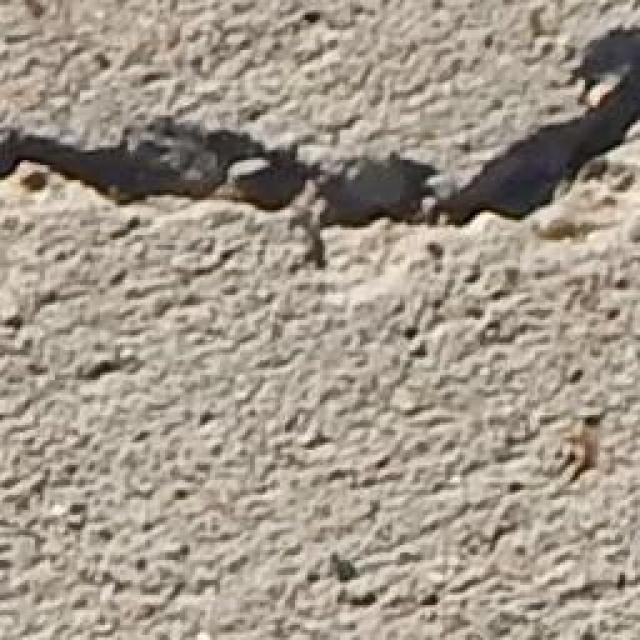concrete-crack: (0, 20, 637, 270)
